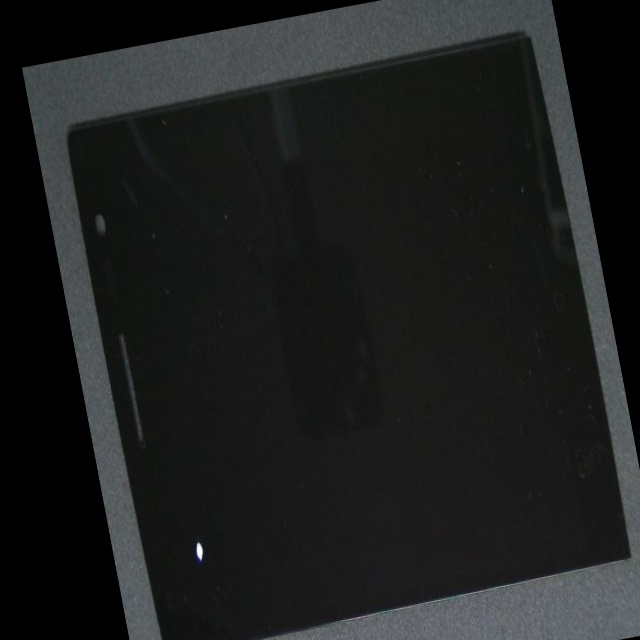stain: (82, 295, 262, 640)
